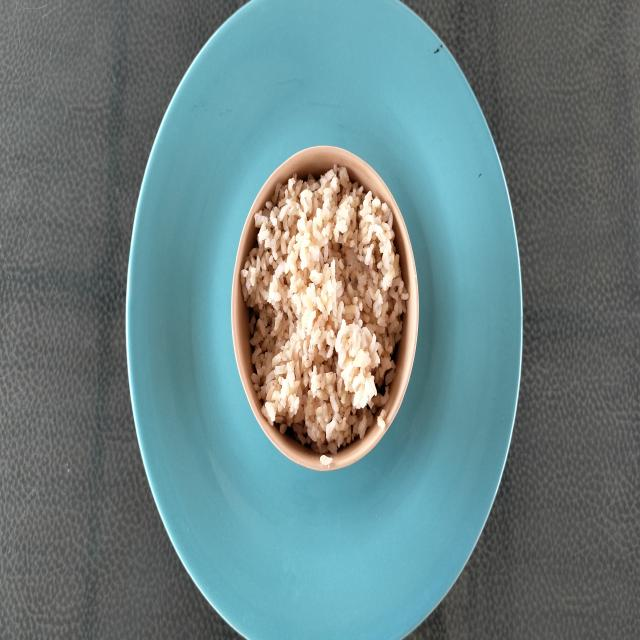brown-rice: (241, 164, 408, 454)
